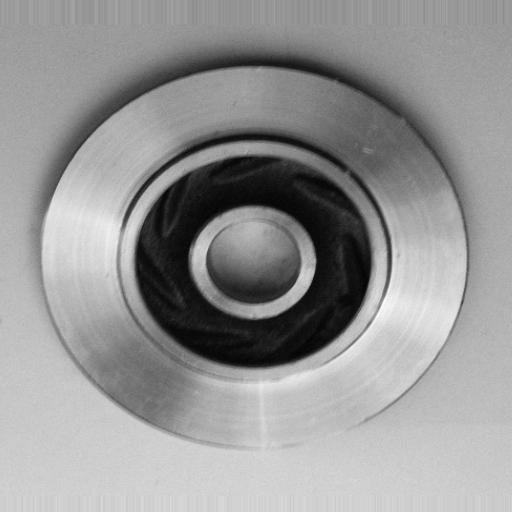unpolished_casting: (35, 65, 470, 453)
